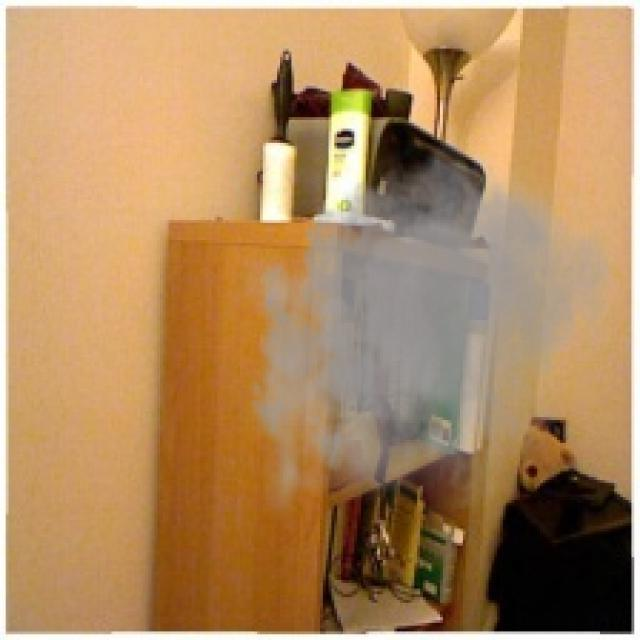Smoke: (231, 132, 626, 532)
